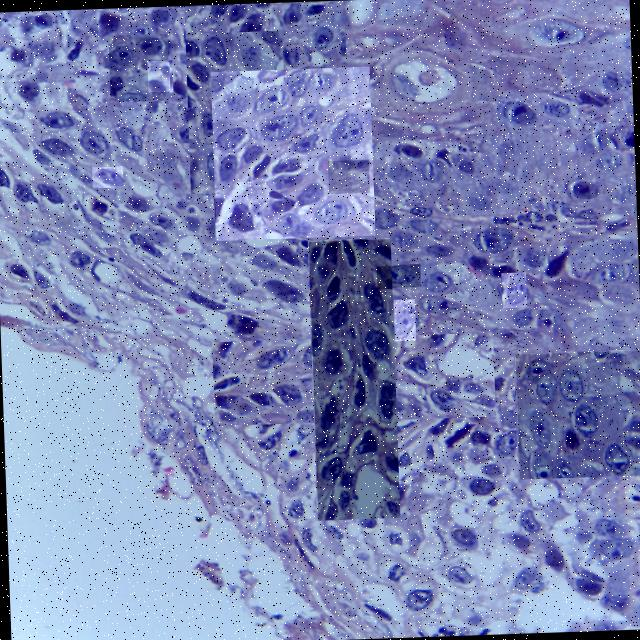Multiple Nucleol: (329, 159, 369, 192), (376, 263, 420, 286), (307, 78, 342, 104), (394, 298, 414, 339), (502, 271, 526, 305), (148, 61, 172, 91), (92, 165, 122, 186), (451, 526, 477, 547), (293, 211, 312, 231)
Nuclear Hyperchromatism: (186, 0, 351, 189), (213, 67, 370, 235), (315, 239, 396, 518), (516, 352, 640, 477), (110, 33, 168, 100)
